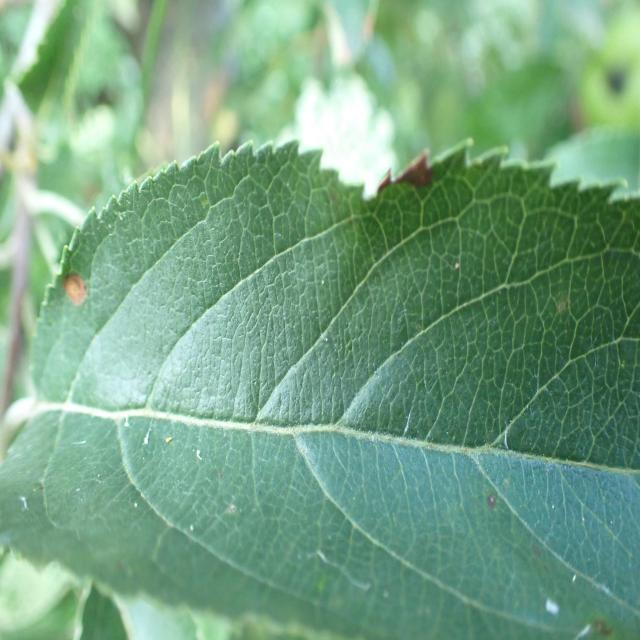frog-eye-leaf-spot: (0, 136, 640, 639)
